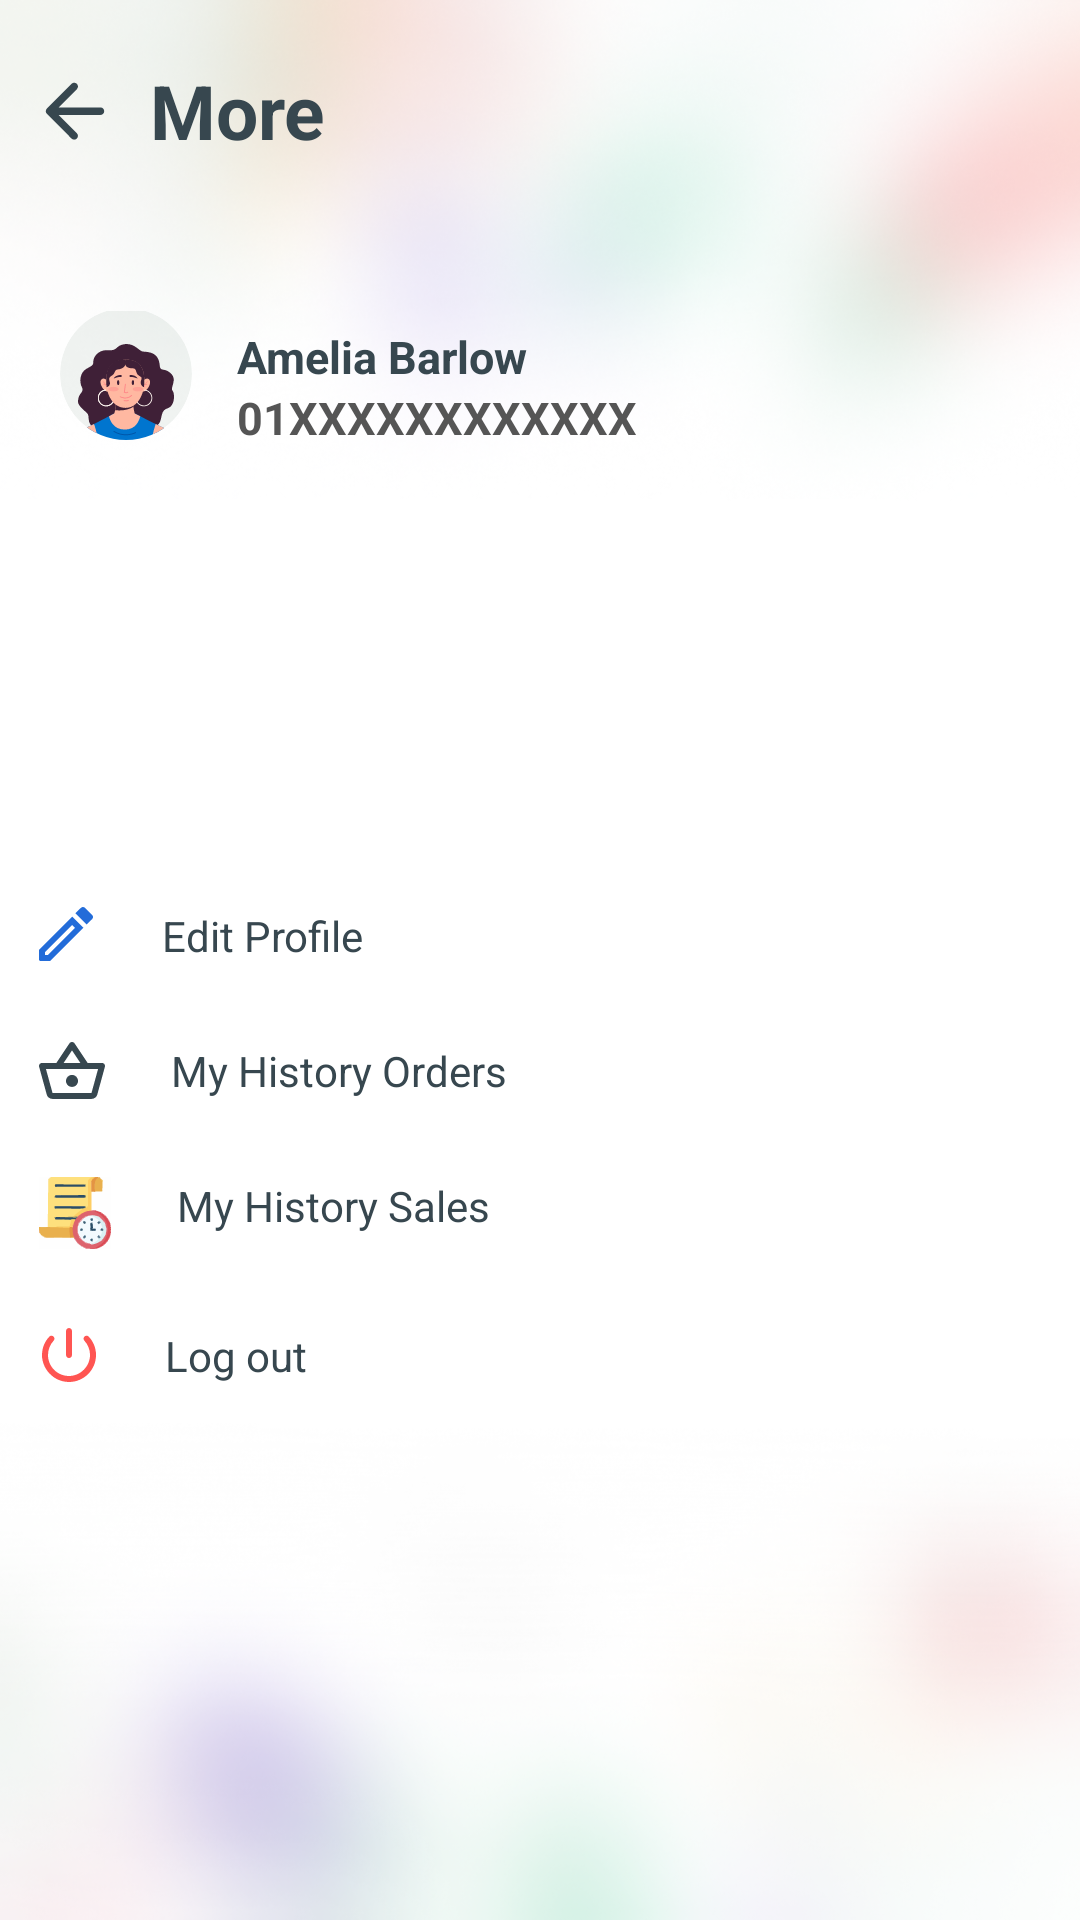

Named icons in this screenshot (1080 x 1920) and their centers, (x=x, y=y):
backward: (x=75, y=111)
setting profile imageview: (x=126, y=392)
